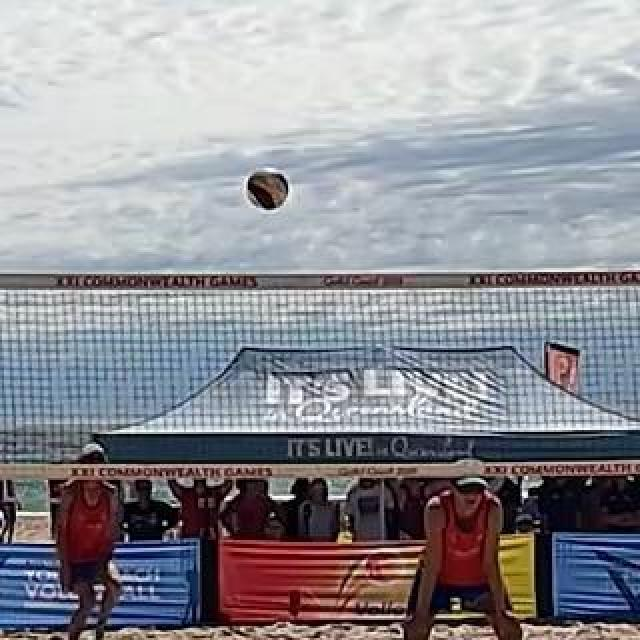volleyball: (245, 169, 287, 209)
